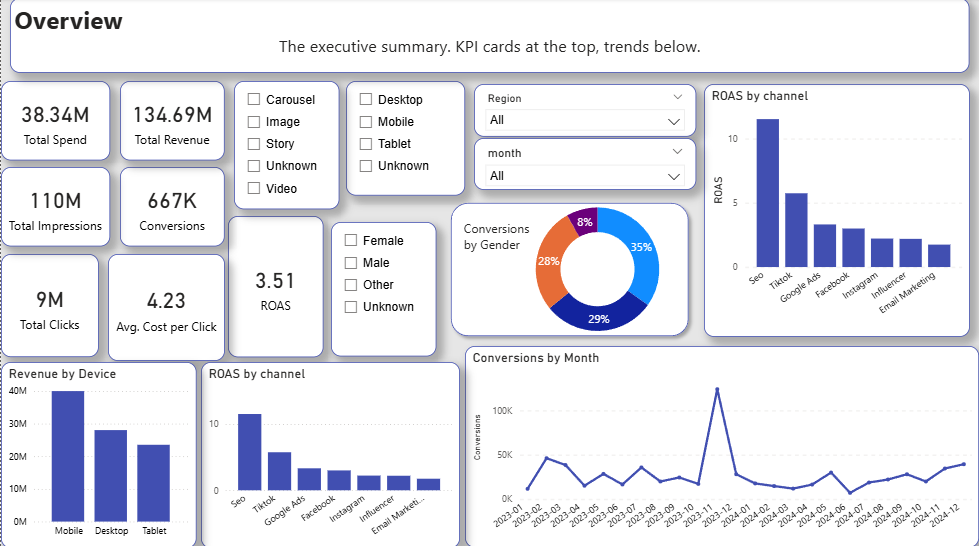

Layout of this report page (visuals, bound fields, positions):
{"tool":"powerbi","page":{"name":"Overview","canvas":[1280,720],"ordinal":0},"visuals":[{"type":"card","fields":{"Values":["ROAS.ROAS_fixed"]},"box":[296.8,285.1,124.9,185.1],"z":0},{"type":"card","fields":{"Values":["Sum(campaign_data.Conversions)"]},"box":[155.8,221.9,136.7,104.3],"z":1000},{"type":"card","fields":{"Values":["Sum(campaign_data.Revenue_USD)"]},"box":[155.8,108.7,136.7,104.3],"z":2000},{"type":"card","fields":{"Values":["Sum(campaign_data.Spend_USD)"]},"box":[0,108.7,142.5,104.3],"z":3000},{"type":"clusteredColumnChart","fields":{"Category":["CTR.channel"],"Y":["ROAS.ROAS_fixed"]},"box":[919.8,113.1,348.2,330.6],"z":4000},{"type":"lineChart","fields":{"Category":["mOm.month"],"Y":["Sum(mOm.total_conversions)"]},"box":[606.9,455.5,673,264.5],"z":5000},{"type":"slicer","fields":{"Values":["campaign_data.Gender"]},"box":[432,293.9,138.1,176.3],"z":6000},{"type":"slicer","fields":{"Values":["campaign_data.Device"]},"box":[451.1,108.7,155.8,149.9],"z":7000},{"type":"textbox","box":[11.8,0,1256.3,98.4],"z":8000},{"type":"slicer","fields":{"Values":["campaign_data.Content_Type"]},"box":[305.6,108.7,138.1,167.5],"z":9000},{"type":"slicer","fields":{"Values":["campaign_data.Region"]},"box":[618.6,113.1,290.9,69.1],"z":10000},{"type":"slicer","fields":{"Values":["mOm.month"]},"box":[618.6,183.7,290.9,67.6],"z":11000},{"type":"card","fields":{"Values":["Sum(campaign_data.Clicks)"]},"box":[0,335,127.8,135.2],"z":12000},{"type":"card","fields":{"Values":["Sum(campaign_data.Impressions)"]},"box":[0,221.9,142.5,104.3],"z":13000},{"type":"card","fields":{"Values":["Avg(campaign_data.CPC_USD)"]},"box":[139.6,335,152.8,139.6],"z":14000},{"type":"clusteredColumnChart","fields":{"Category":["CTR.channel"],"Y":["ROAS.ROAS_fixed"]},"box":[261.6,476.1,339.4,243.9],"z":15000},{"type":"clusteredColumnChart","title":"Revenue by Device","fields":{"Category":["Device.device"],"Y":["Sum(Device.highest_revenue)"]},"box":[0,476.1,255.7,243.9],"z":16000},{"type":"shape","box":[580.4,258.6,329.1,192.5],"z":17000},{"type":"donutChart","title":"Conversions by Gender","fields":{"Category":["campaign_data.Gender"],"Y":["Sum(campaign_data.Conversions)"]},"box":[570.1,245.4,420.2,220.4],"z":17002},{"type":"textbox","box":[601,285.1,98.4,74.9],"z":17003}]}

Visuals, with their boxes in screenshot pixels (x1, y1, x2, y2), scaled from the page's 1280x720 canvas onto the 979x546 screenshot:
card - ROAS.ROAS_fixed: crop(227, 216, 323, 357)
card - Sum(campaign_data.Conversions): crop(119, 168, 224, 247)
card - Sum(campaign_data.Revenue_USD): crop(119, 82, 224, 162)
card - Sum(campaign_data.Spend_USD): crop(0, 82, 109, 162)
clusteredColumnChart - CTR.channel x ROAS.ROAS_fixed: crop(704, 86, 970, 336)
lineChart - mOm.month x Sum(mOm.total_conversions): crop(464, 345, 978, 545)
slicer - campaign_data.Gender: crop(330, 223, 436, 357)
slicer - campaign_data.Device: crop(345, 82, 464, 196)
textbox: crop(9, 0, 970, 75)
slicer - campaign_data.Content_Type: crop(234, 82, 339, 209)
slicer - campaign_data.Region: crop(473, 86, 696, 138)
slicer - mOm.month: crop(473, 139, 696, 191)
card - Sum(campaign_data.Clicks): crop(0, 254, 98, 357)
card - Sum(campaign_data.Impressions): crop(0, 168, 109, 247)
card - Avg(campaign_data.CPC_USD): crop(107, 254, 224, 360)
clusteredColumnChart - CTR.channel x ROAS.ROAS_fixed: crop(200, 361, 460, 545)
"Revenue by Device" clusteredColumnChart: crop(0, 361, 196, 545)
shape: crop(444, 196, 696, 342)
"Conversions by Gender" donutChart: crop(436, 186, 757, 353)
textbox: crop(460, 216, 535, 273)
